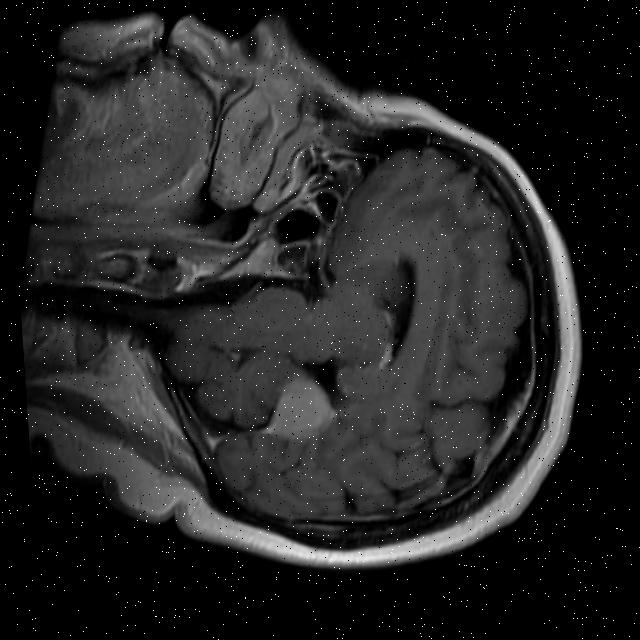Meningioma: (255, 364, 345, 451)
